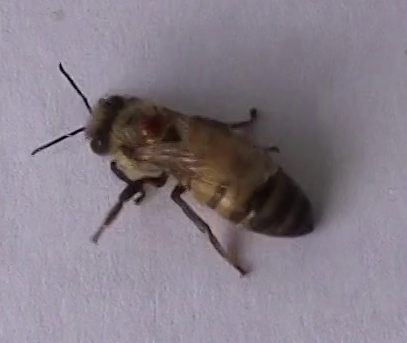Varroa destructor: (137, 112, 168, 142)
